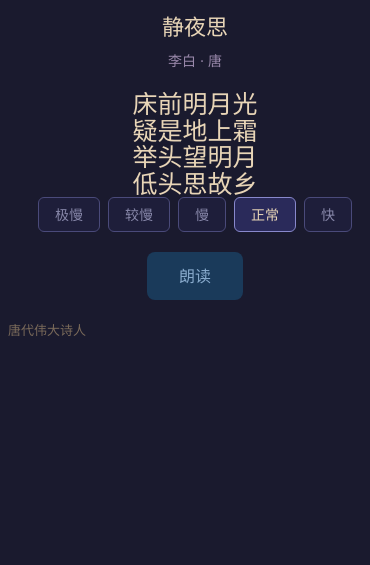
PoemPlayer › annotation popup › long press on character opens annotation popup
Press the mouse on the text "床": coordinates (145, 104) [132, 89, 158, 119]
Wait 500 ms
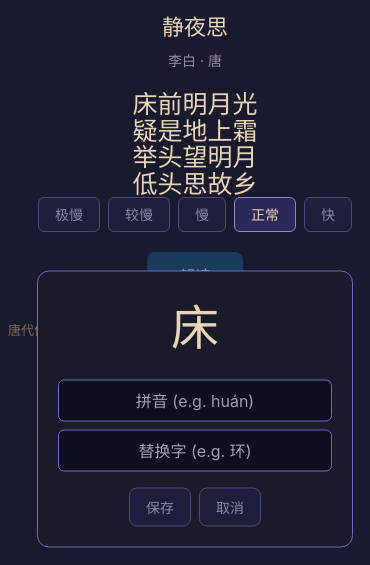
Expected: the field with placeholder "拼音 (e.g. huán)" is shown, [58, 380, 332, 422]
